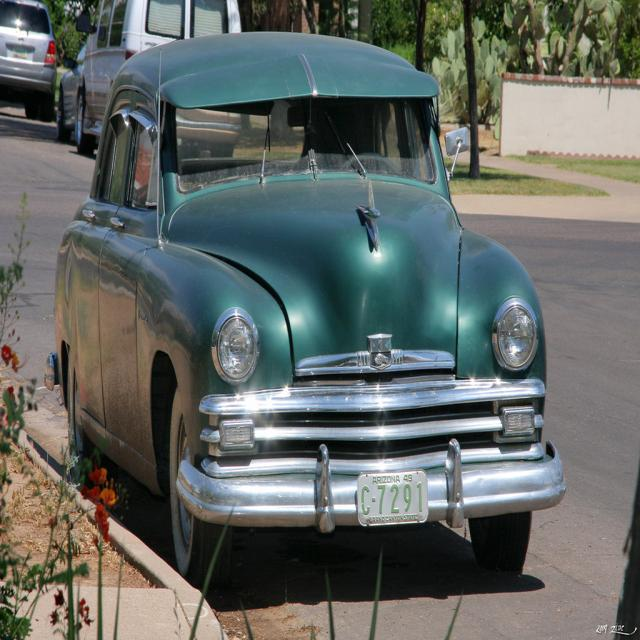car: (44, 28, 564, 584)
